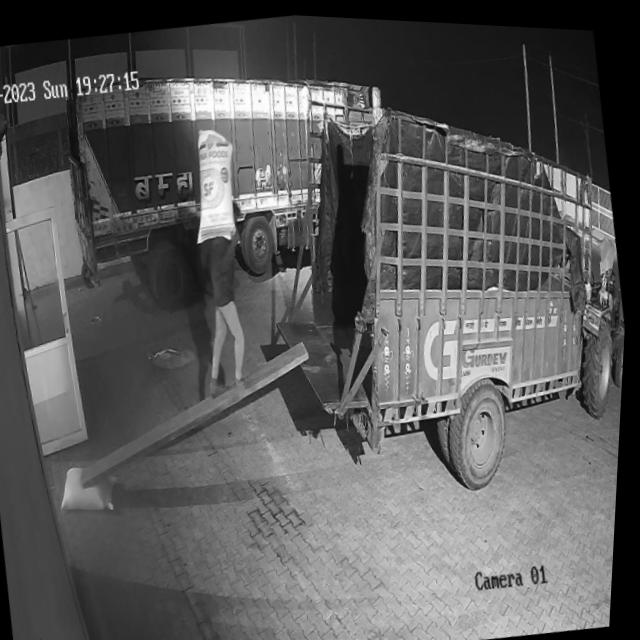sack: (183, 122, 249, 247), (59, 458, 124, 517)
